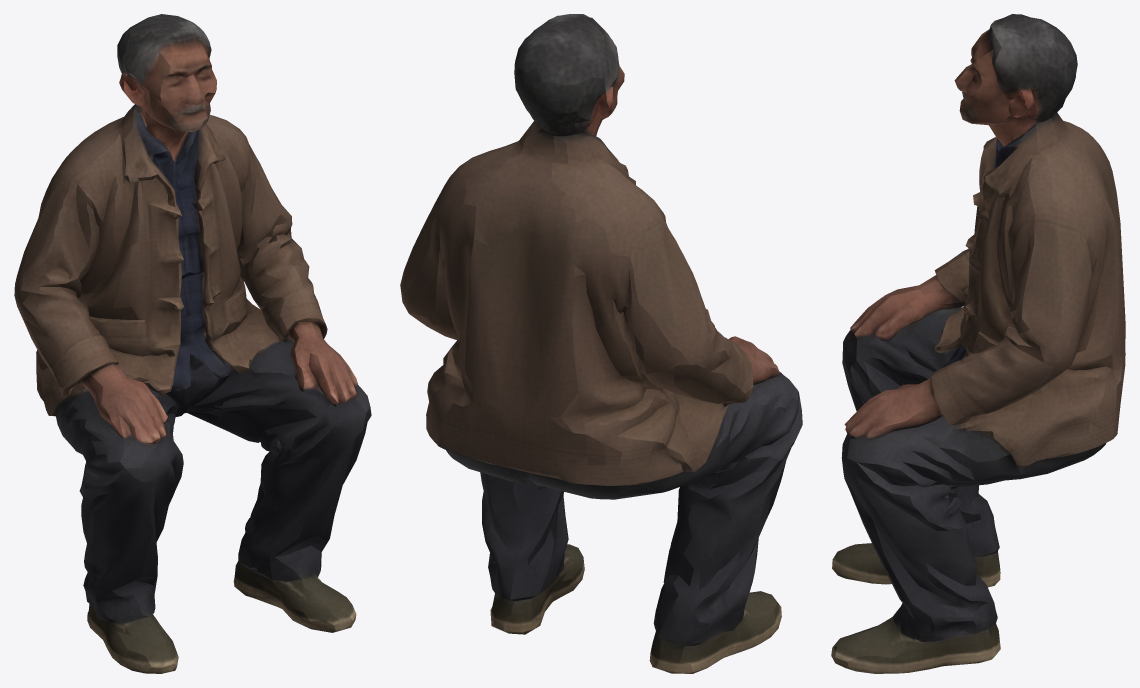
The model's file is chen-seated.glb.
3 views of the same model, side by side, from view 1: azimuth 30°, elevation 25°; view 2: azimuth 150°, elevation 25°; view 3: azimuth 270°, elevation 25° (orthographic). The views are drawn at different scales.
Visible parts, largest first — view 1: world; view 2: world; view 3: world.
Boxes of the visible parts, x1,y1,x2,y2 form: world: [14, 14, 371, 673]; world: [400, 14, 802, 673]; world: [831, 14, 1125, 673].
Size of the model in its own units: 0.5058 by 1 by 0.4488.
Materials: 1 (1 with a texture image).
